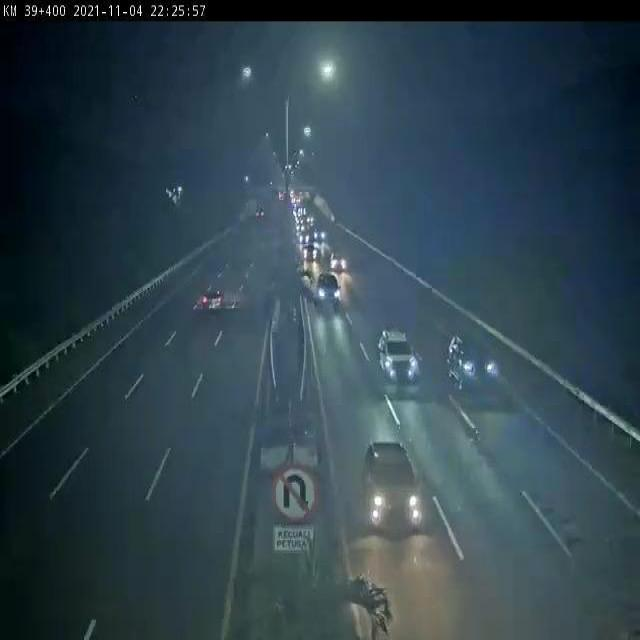car: (366, 443, 422, 536), (451, 336, 498, 392), (381, 332, 420, 383), (318, 273, 341, 312), (203, 288, 226, 311), (331, 252, 348, 273)
